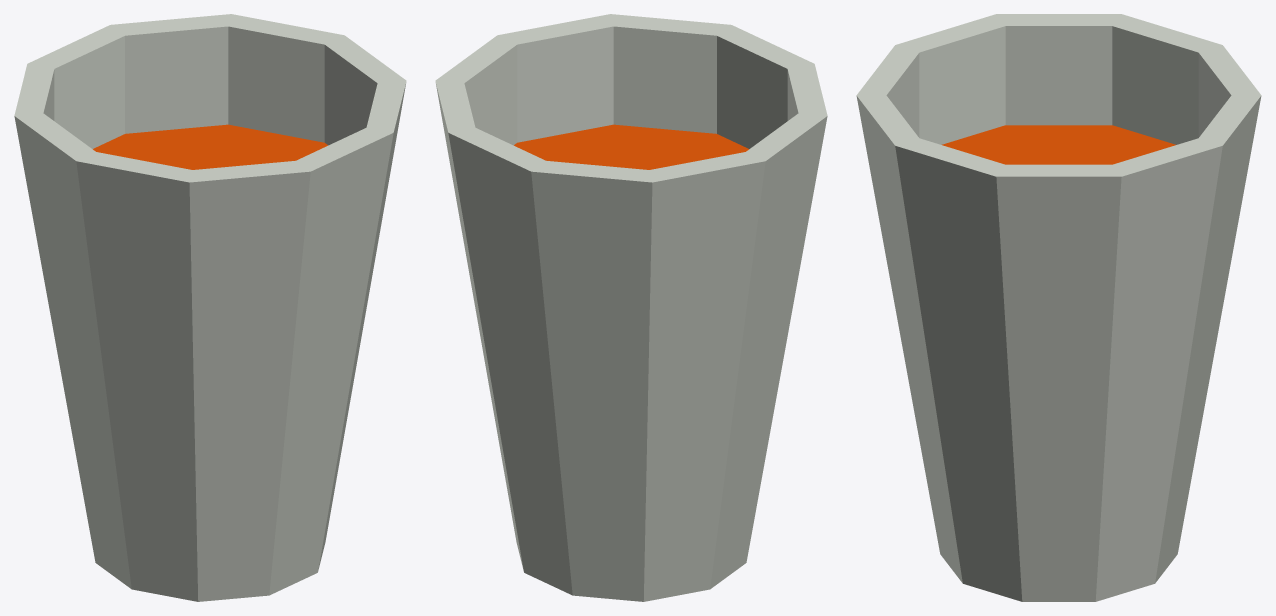
The model's file is cupjuice.fbx.
The picture shows the model from 3 angles, left to right: view 1: azimuth 30°, elevation 25°; view 2: azimuth 150°, elevation 25°; view 3: azimuth 270°, elevation 25°; orthographic projection.
Parts seen in each view (by area): view 1: cupjuice; view 2: cupjuice; view 3: cupjuice.
Boxes of the visible parts, x1,y1,x2,y2 form: cupjuice: (14,14,406,601); cupjuice: (435,14,827,601); cupjuice: (856,14,1261,601).
Bounding box in the file's own units: 40.87 × 53.72 × 42.98.
